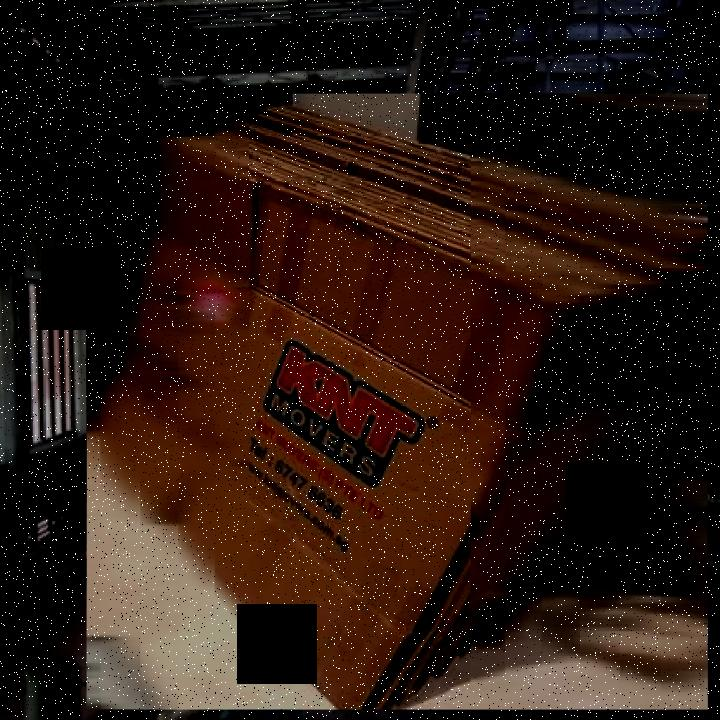box: (77, 86, 719, 719)
